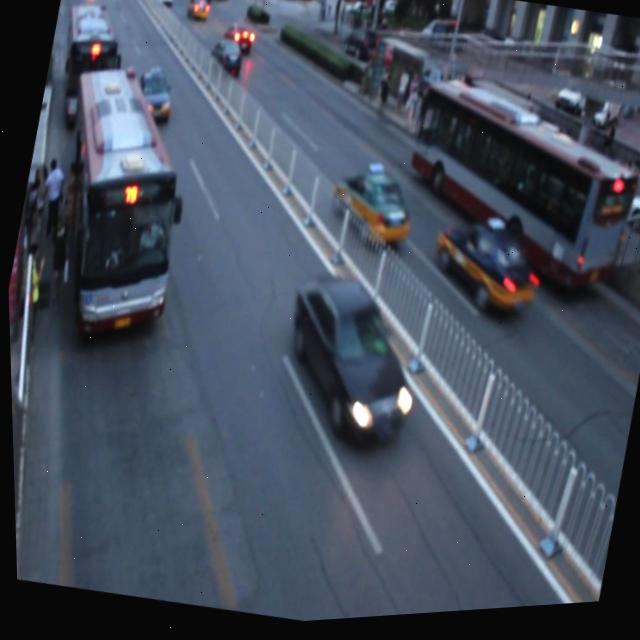car: (266, 268, 430, 462), (421, 211, 547, 330), (322, 163, 417, 257), (130, 66, 178, 128), (203, 36, 245, 85), (220, 19, 256, 58)
van: (387, 73, 640, 314), (25, 62, 208, 352), (46, 0, 128, 132)
